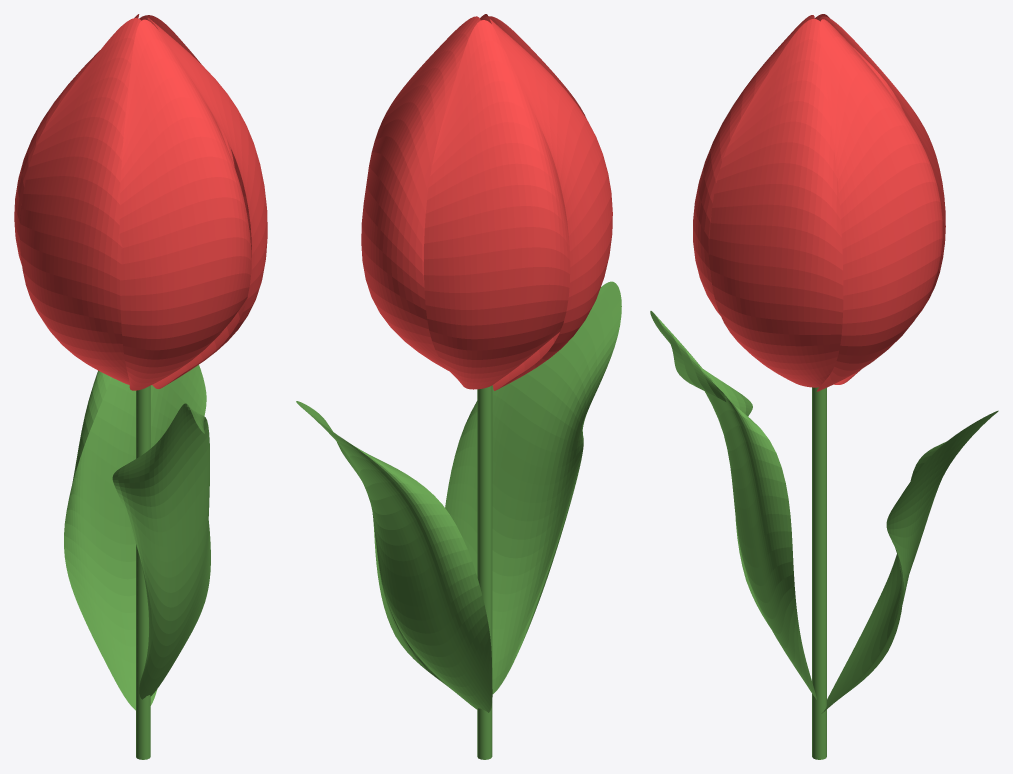
The model's file is flowerapple.fbx.
3 views of the same model, side by side, from view 1: azimuth 30°, elevation 25°; view 2: azimuth 150°, elevation 25°; view 3: azimuth 270°, elevation 25° (orthographic).
Visible parts, largest first — view 1: tulip.004, tulip.003, leaf, leaf 2, tulip, stem, tulip.002; view 2: tulip.002, leaf 2, leaf, tulip.001, tulip.003, stem, tulip.004; view 3: tulip, tulip.001, leaf 2, leaf, stem, tulip.004, tulip.002.
Boxes of the visible parts, x1=… form: tulip.004: x1=119, y1=19, x2=251, y2=390; tulip.003: x1=20, y1=18, x2=141, y2=384; leaf: x1=64, y1=365, x2=206, y2=710; leaf 2: x1=112, y1=403, x2=210, y2=699; tulip: x1=147, y1=17, x2=267, y2=388; stem: x1=136, y1=385, x2=150, y2=759; tulip.002: x1=14, y1=14, x2=139, y2=264; tulip.002: x1=424, y1=20, x2=570, y2=389; leaf 2: x1=445, y1=281, x2=621, y2=693; leaf: x1=296, y1=401, x2=492, y2=712; tulip.001: x1=361, y1=16, x2=480, y2=370; tulip.003: x1=490, y1=19, x2=612, y2=390; stem: x1=477, y1=385, x2=492, y2=759; tulip.004: x1=481, y1=16, x2=586, y2=118; tulip: x1=709, y1=19, x2=843, y2=387; tulip.001: x1=816, y1=19, x2=942, y2=391; leaf 2: x1=650, y1=311, x2=816, y2=699; leaf: x1=821, y1=410, x2=998, y2=713; stem: x1=812, y1=387, x2=826, y2=759; tulip.004: x1=693, y1=15, x2=814, y2=315; tulip.002: x1=819, y1=16, x2=945, y2=384.
Size of the model in its own units: 204 by 658 by 281.
